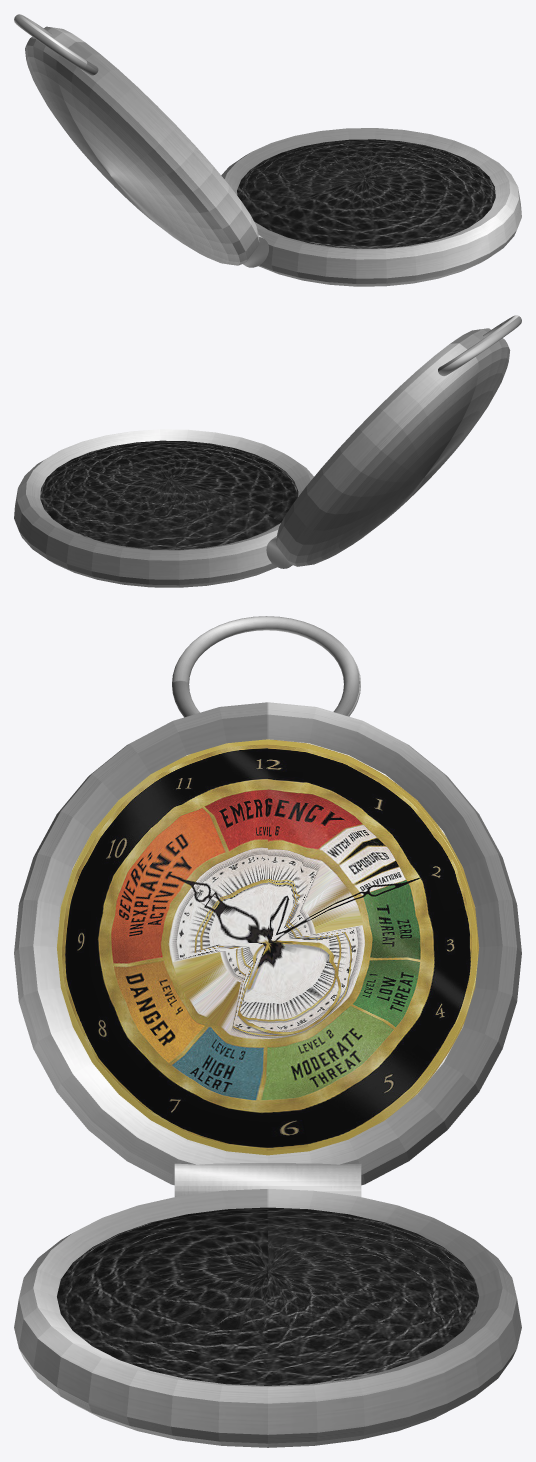
The model's file is relojBolsillo.fbx.
3 renders of one model, top to bottom at view 1: azimuth 30°, elevation 25°; view 2: azimuth 150°, elevation 25°; view 3: azimuth 270°, elevation 25°, orthographic. The views are drawn at different scales.
Parts seen in each view (by area): view 1: Esfera, Esfera.001, Círculo Bezier, Cilindro; view 2: Esfera, Esfera.001, Círculo Bezier, Cilindro; view 3: Esfera.001, Esfera, Cilindro, Círculo Bezier.
Boxes of the visible parts, x1,y1,x2,y2 form: Esfera: (221, 128, 521, 286); Esfera.001: (25, 26, 259, 265); Círculo Bezier: (14, 14, 98, 75); Cilindro: (243, 234, 268, 267); Esfera: (14, 429, 313, 587); Esfera.001: (276, 328, 510, 566); Círculo Bezier: (438, 315, 521, 375); Cilindro: (266, 536, 292, 568); Esfera.001: (14, 702, 521, 1185); Esfera: (14, 1189, 521, 1447); Cilindro: (174, 1163, 361, 1196); Círculo Bezier: (172, 616, 360, 717).
Bounding box in the file's own units: 1042 × 640 × 591.
3 materials, 3 textured.
